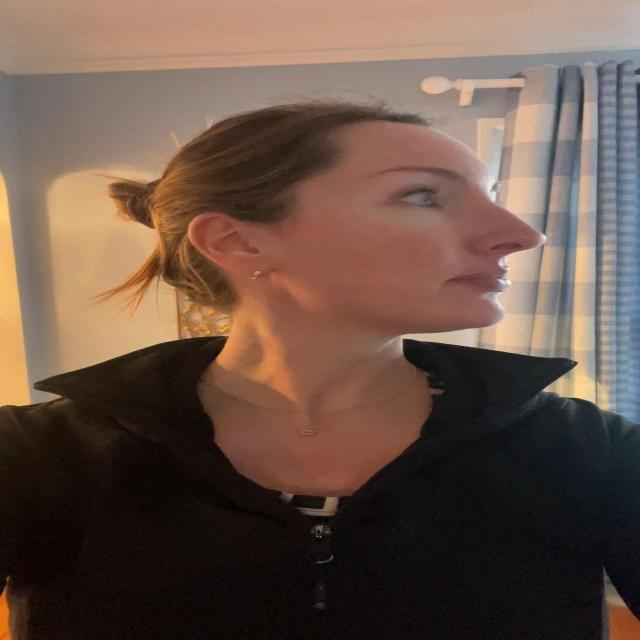no-helmet: (248, 119, 548, 333)
